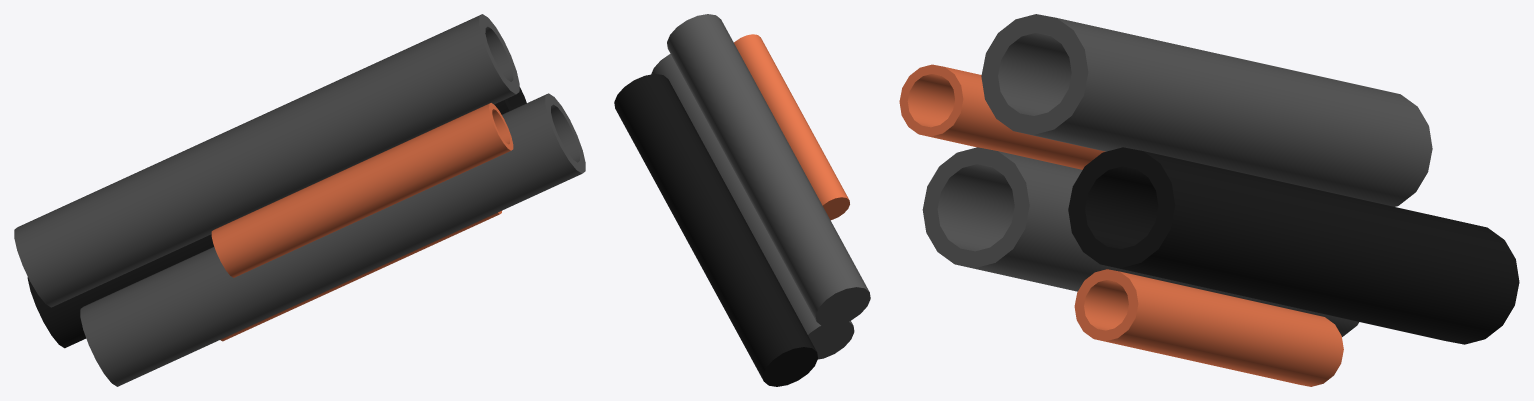
The model's file is technolog_scene_model_3.gltf.
3 renders of one model, left to right at view 1: azimuth 30°, elevation 25°; view 2: azimuth 150°, elevation 25°; view 3: azimuth 270°, elevation 25°, orthographic. The views are drawn at different scales.
Parts seen in each view (by area): view 1: Цилиндр.002, Цилиндр, Цилиндр.004, Цилиндр.001, Цилиндр.003; view 2: Цилиндр.001, Цилиндр.002, Цилиндр, Цилиндр.004; view 3: Цилиндр.001, Цилиндр.002, Цилиндр, Цилиндр.003, Цилиндр.004.
Part boxes in pixels (x1,y1,x2,y2): Цилиндр.002: (14,14,519,307); Цилиндр: (80,93,585,386); Цилиндр.004: (211,103,513,277); Цилиндр.001: (27,87,526,348); Цилиндр.003: (220,211,501,341); Цилиндр.001: (614,74,817,386); Цилиндр.002: (667,14,870,326); Цилиндр: (651,54,854,359); Цилиндр.004: (734,34,849,220); Цилиндр.001: (1068,147,1519,344); Цилиндр.002: (981,14,1432,206); Цилиндр: (922,147,1359,336); Цилиндр.003: (1074,269,1343,386); Цилиндр.004: (899,64,1105,169).
Size of the model in its own units: 11.41 by 9.17 by 10.19.
